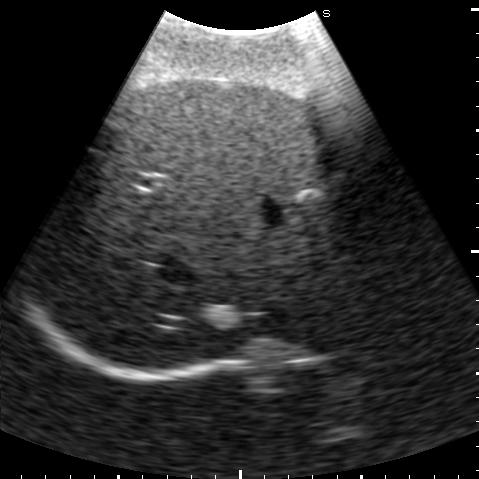S5: (117, 83, 332, 202)
S7: (43, 166, 156, 316)
S8: (98, 191, 372, 368)
Tumor: (203, 305, 239, 329), (294, 187, 321, 202)
